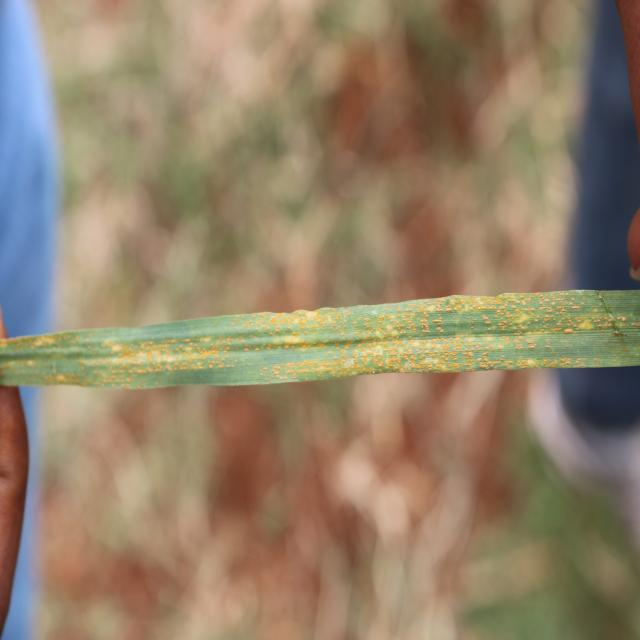Stripe Rust: (276, 342, 493, 382), (104, 338, 214, 378), (564, 311, 630, 333)
